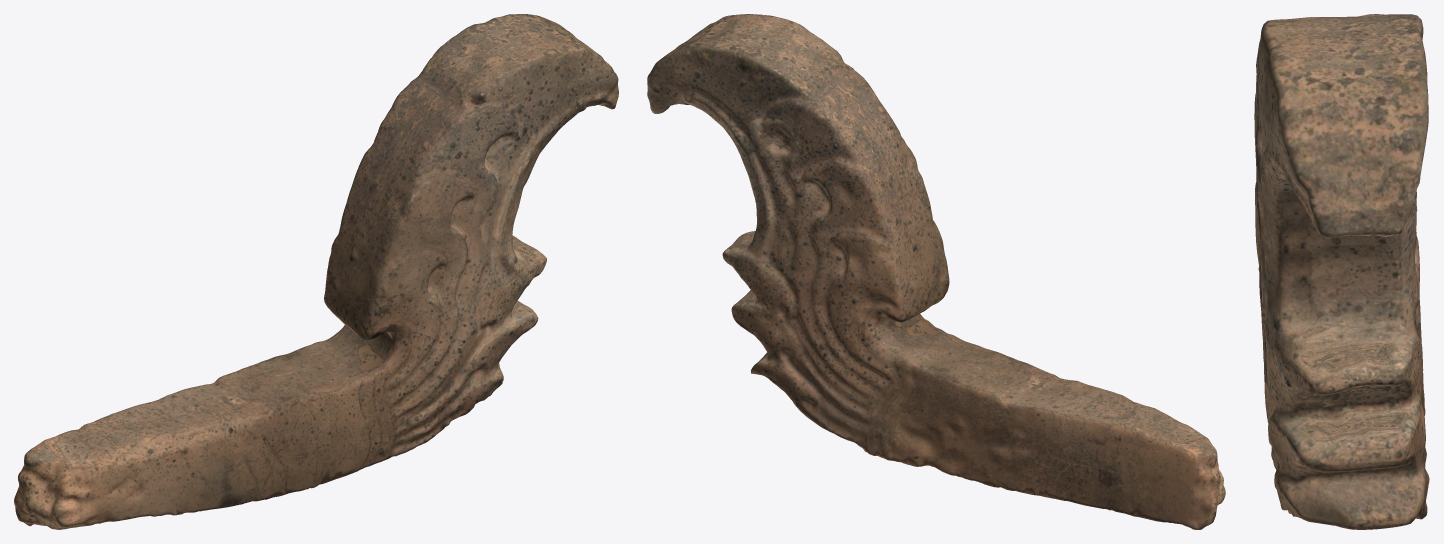
File: MysonMuseum_hoatiethoaco_final.glb
3 views of the same model, side by side, from view 1: azimuth 30°, elevation 25°; view 2: azimuth 150°, elevation 25°; view 3: azimuth 270°, elevation 25° (orthographic). The views are drawn at different scales.
Size of the model in its own units: 0.3394 by 0.2144 by 0.0577.
1 material, 1 textured.
